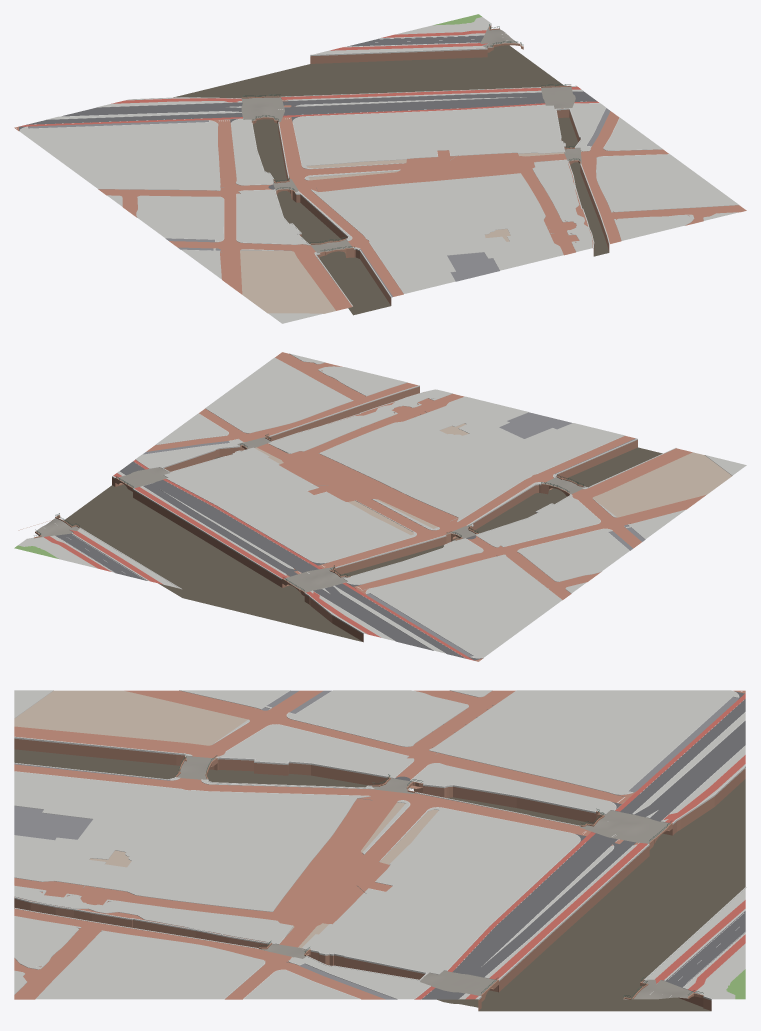
Rendered from ground_10_9.glb.
The picture shows the model from 3 angles, top to bottom: view 1: azimuth 30°, elevation 25°; view 2: azimuth 150°, elevation 25°; view 3: azimuth 270°, elevation 25°; orthographic projection. The views are drawn at different scales.
Visible parts, largest first — view 1: ground_10_9; view 2: ground_10_9; view 3: ground_10_9.
Boxes of the visible parts, <box> form: ground_10_9: <box>14,14,746,323</box>; ground_10_9: <box>14,352,746,661</box>; ground_10_9: <box>14,690,746,1011</box>.
Bounding box in the file's own units: 208 × 5.09 × 200.
